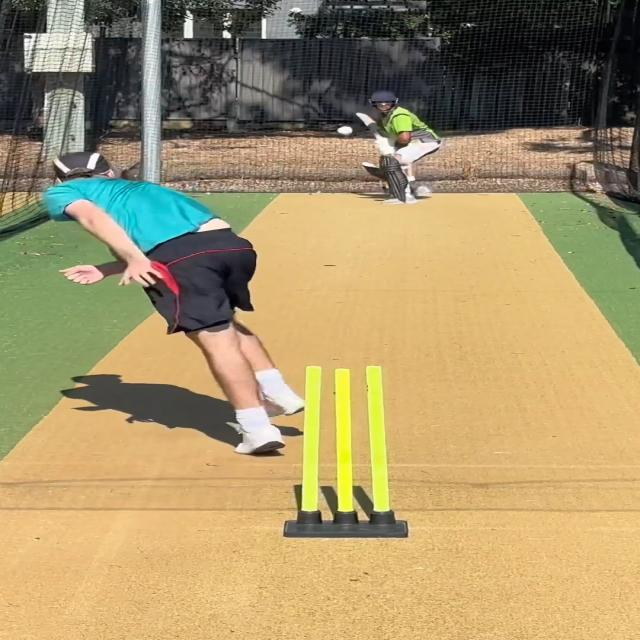ball: (336, 125, 354, 137)
stump: (282, 365, 412, 541)
